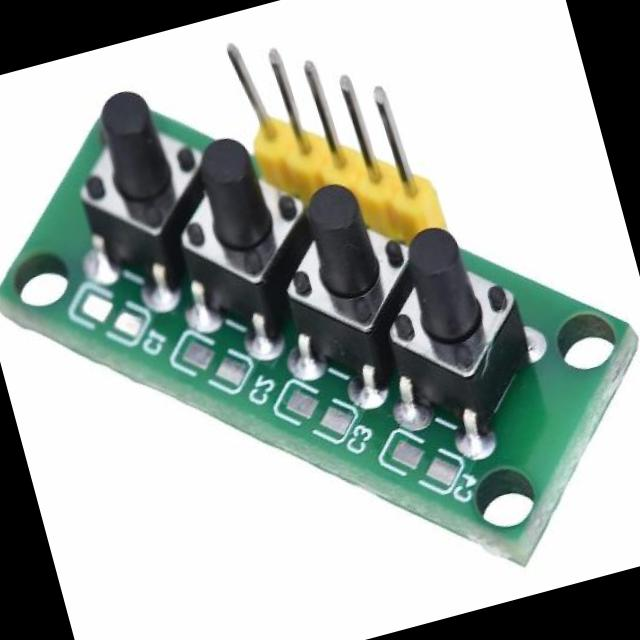connector: (222, 0, 439, 243)
